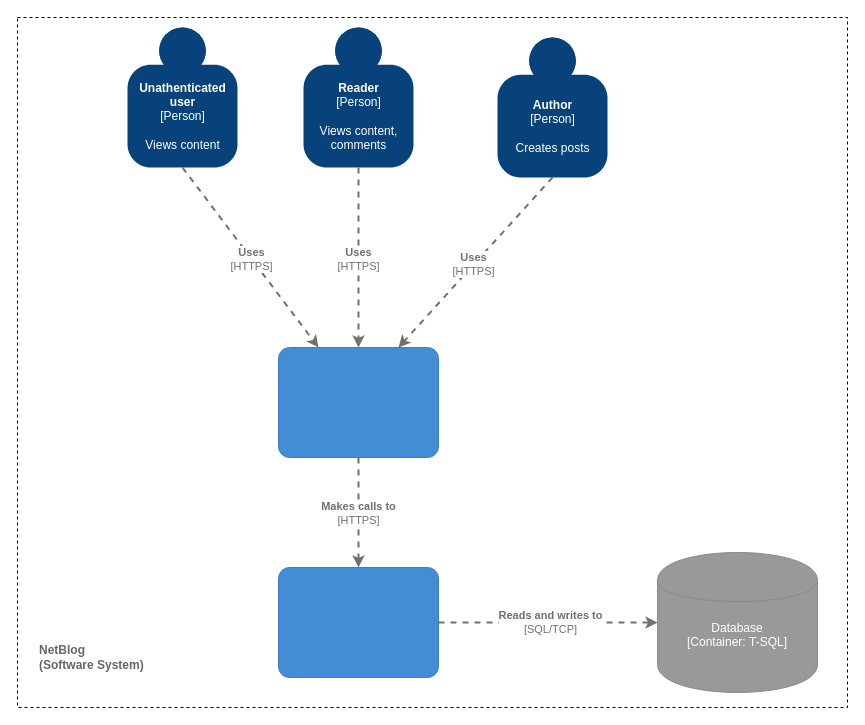
Image size: 865x725. Some labels were removed from this diagram. Here are the shapes that lost their labels. From the top down, the box of each, then its label:
(278, 346, 438, 458): NetBlog.UI [Container: Angular] Front-end SPA
(278, 566, 438, 678): NetBlog.Api [Container: Asp.Net core] Back-end api
